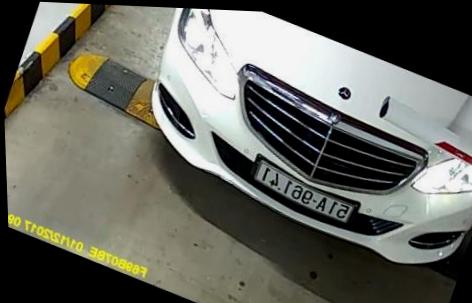License_Plate: (248, 154, 361, 236)
